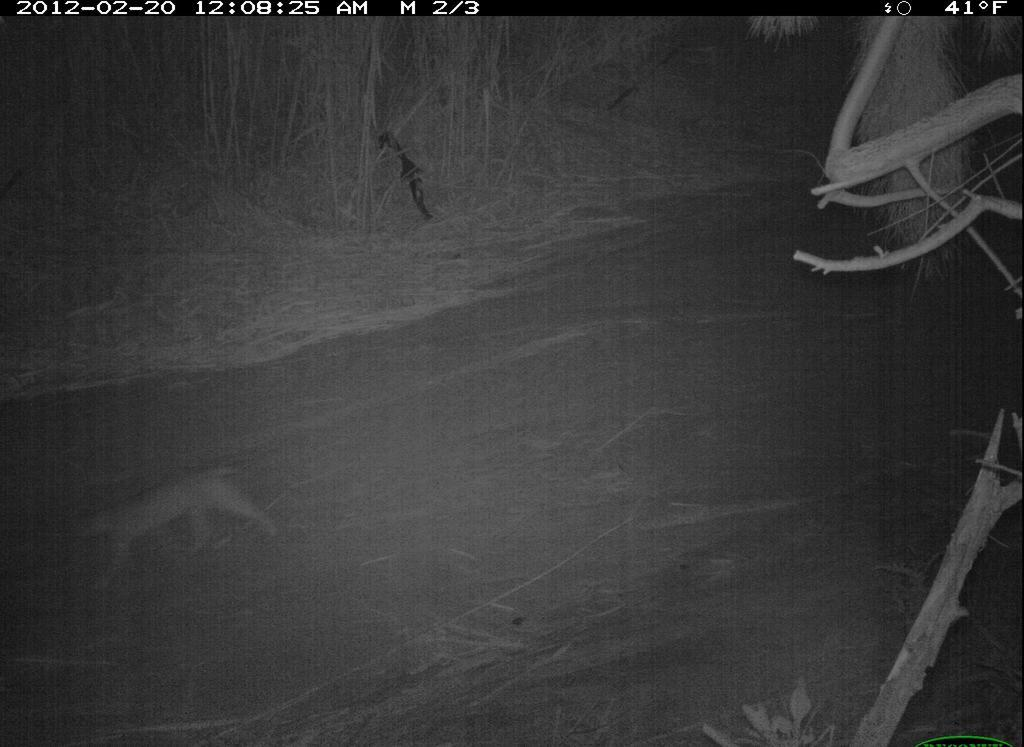bobcat: (68, 457, 285, 596)
